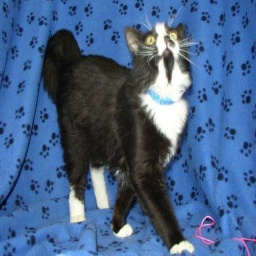cat: (40, 18, 192, 256)
